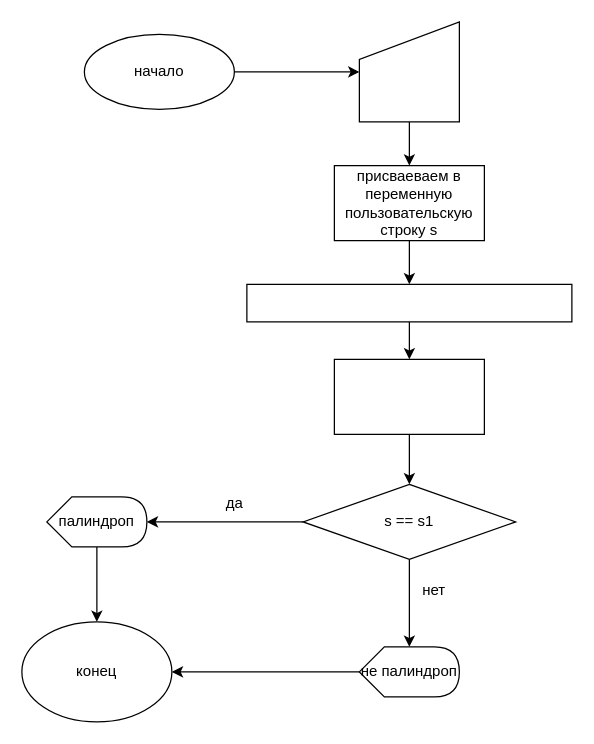
Image size: 594x744. Some labels were removed from this diagram. Here are the shapes that lost their labels. From the top down, the centre of each, then its label:
At [408,71]: "ввод строки".
At [409,302]: "преобразовать строку(убрать пробелы )".
At [408,396]: "присваиваем в переменную s1 перевёрнутую s строку".
